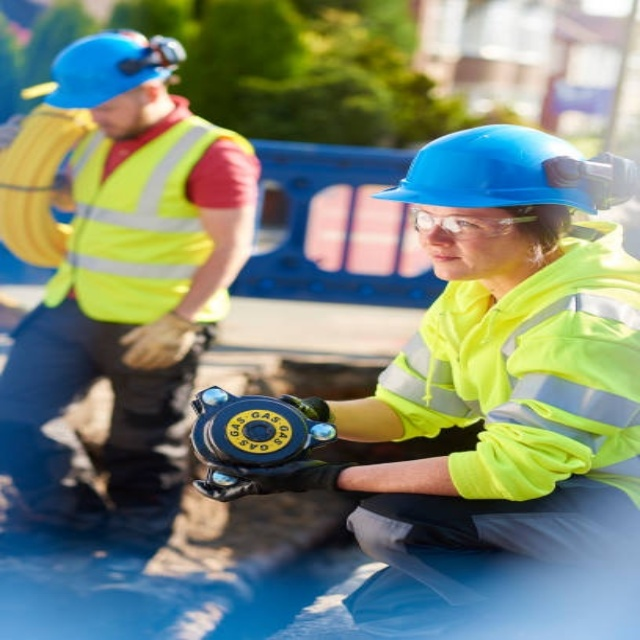Gafas: (409, 205, 536, 241)
Guantes: (194, 456, 356, 500), (119, 310, 204, 371)
Sin_mascara: (420, 244, 478, 279)
